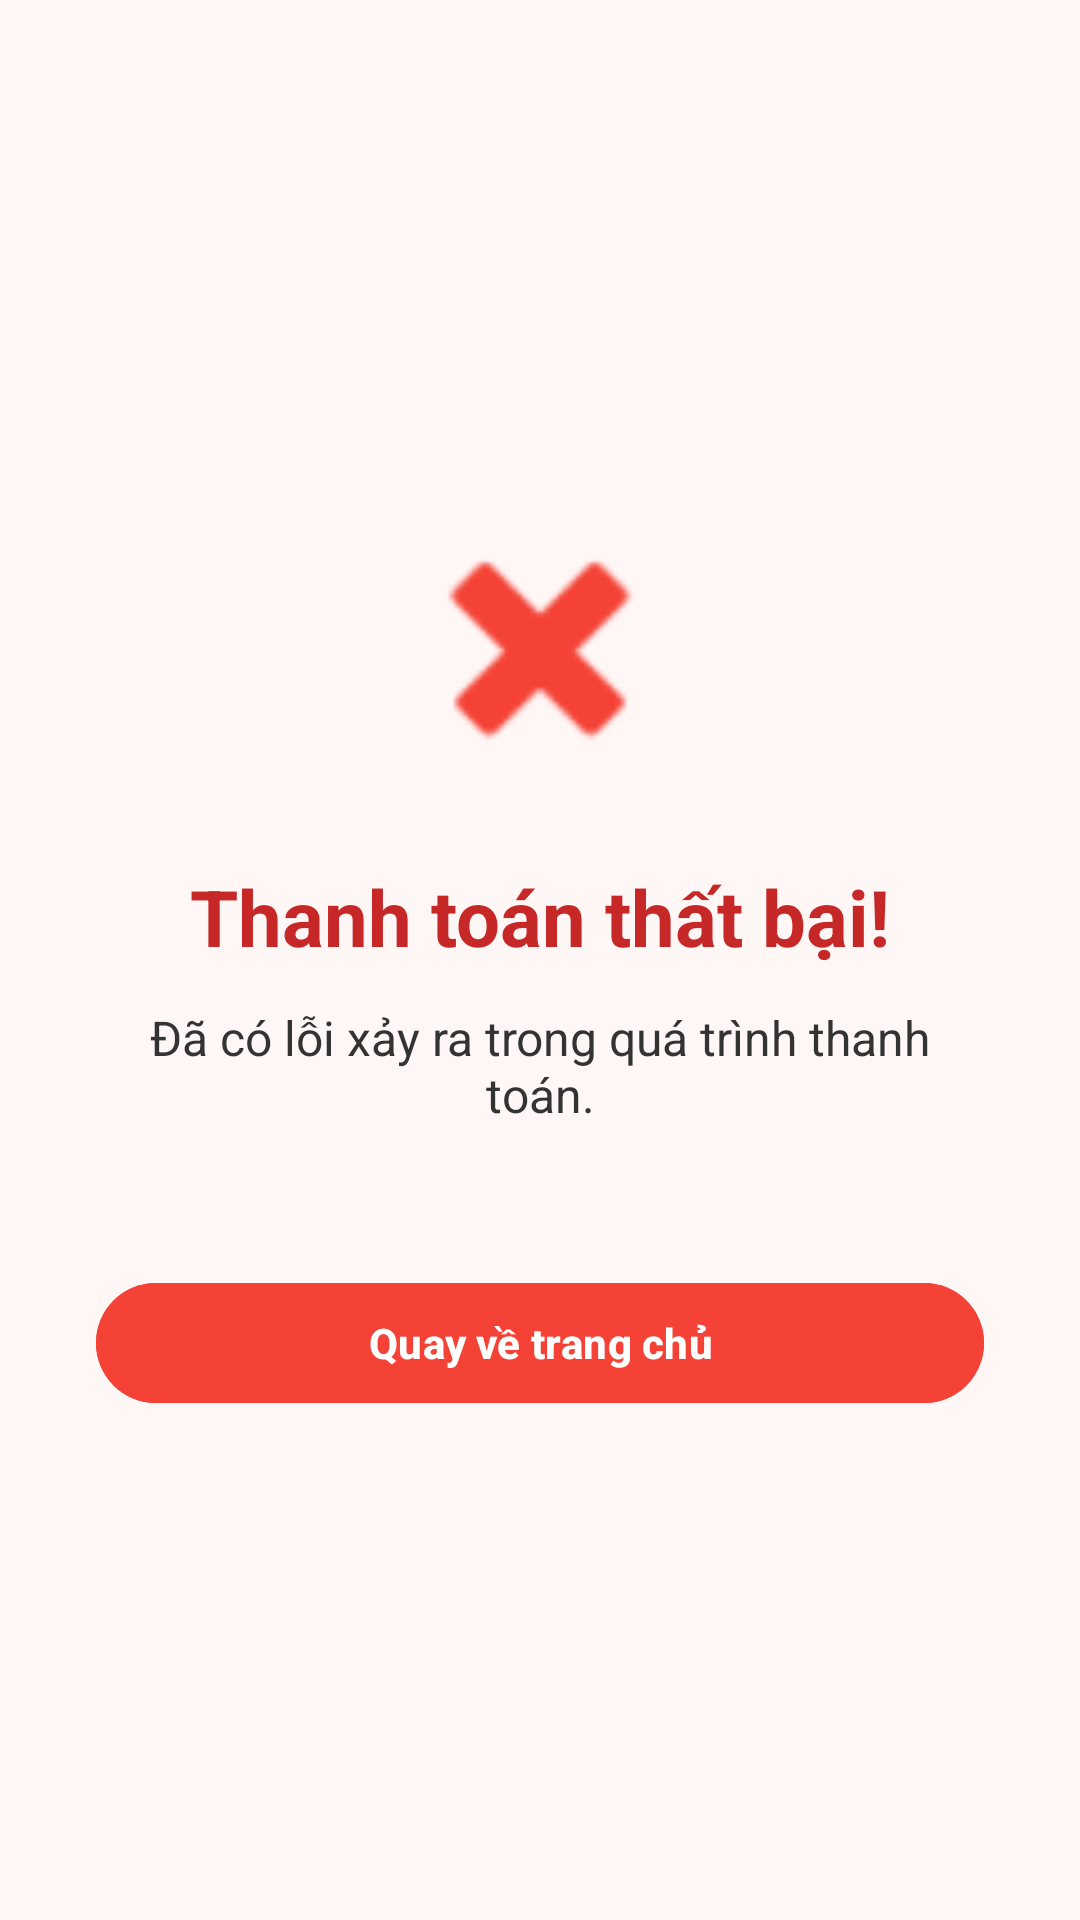

Where to tap for icons on this 1080*1920 app screen, as [x,y]:
Failed: [540,650]
